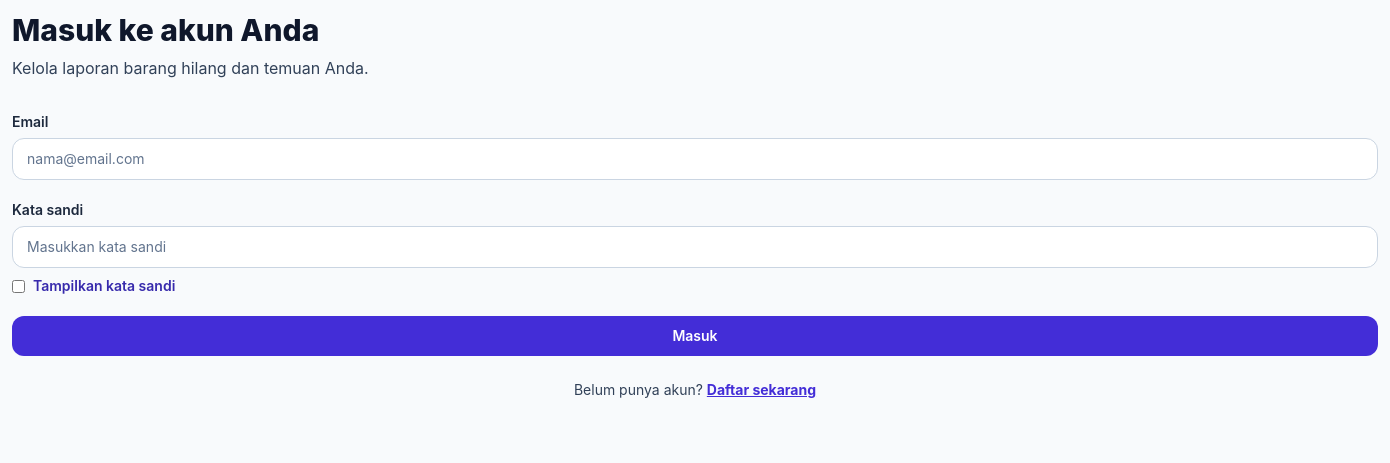
LoginPage › memvalidasi field kosong
Click the button "Masuk" at (695, 336), box [12,316,1378,356]
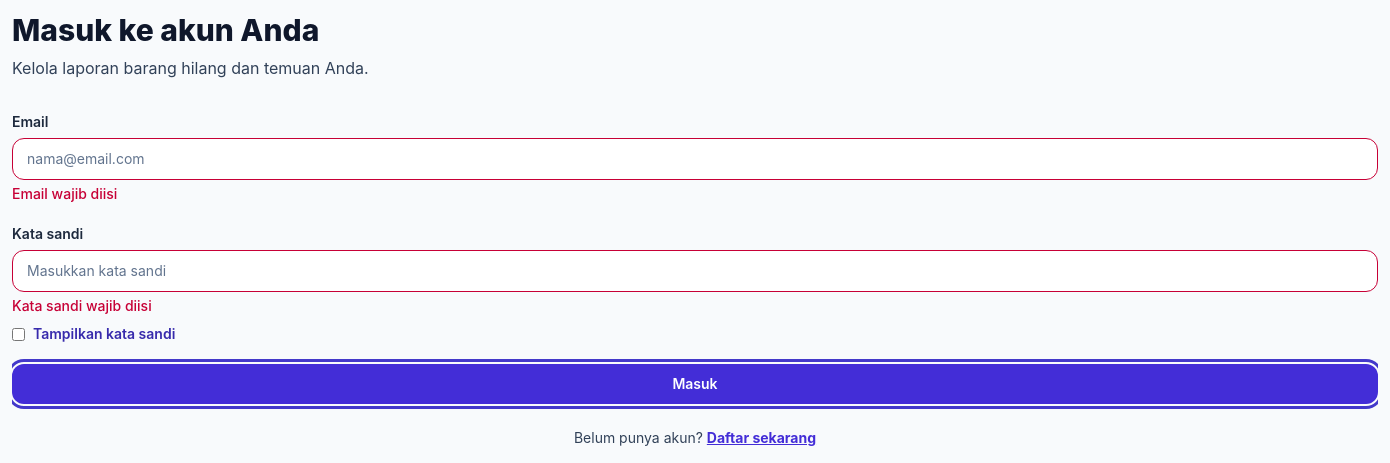
expect the text "Email wajib diisi" is shown: met, box [12,185,117,202]
expect the text "Kata sandi wajib diisi" is shown: met, box [12,297,152,314]
